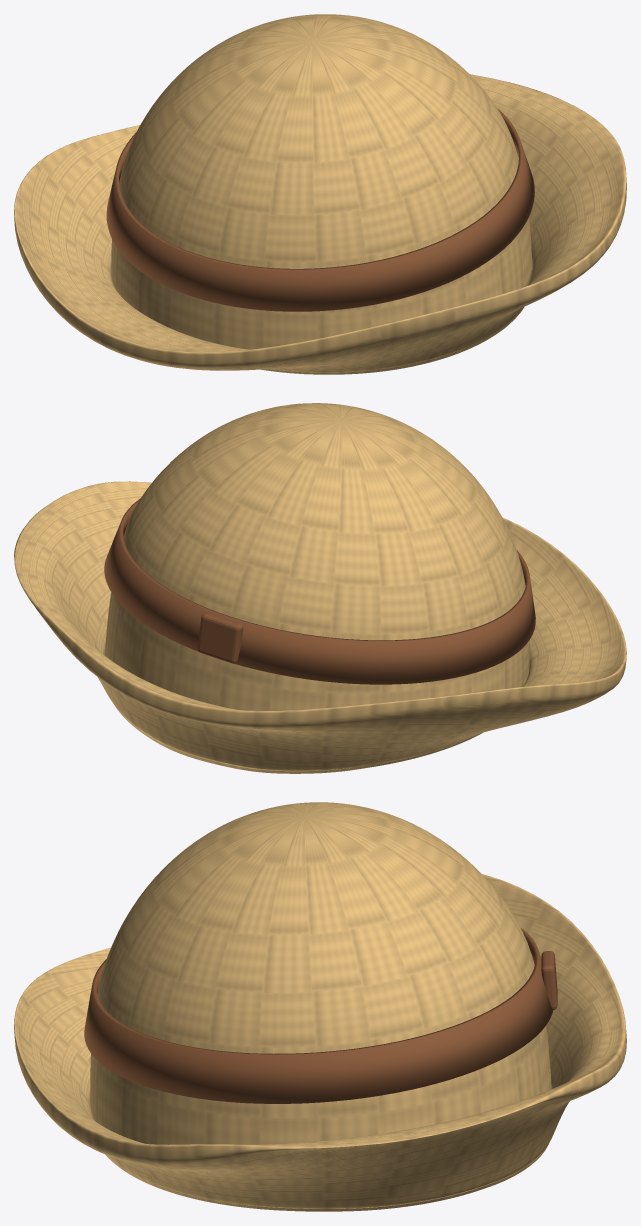
File: sunhat.glb
The picture shows the model from 3 angles, top to bottom: view 1: azimuth 30°, elevation 25°; view 2: azimuth 150°, elevation 25°; view 3: azimuth 270°, elevation 25°; orthographic projection. The views are drawn at different scales.
Visible parts, largest first — view 1: sunhat_hollow_crown, sunhat_soft_brim, sunhat_brown_band; view 2: sunhat_hollow_crown, sunhat_soft_brim, sunhat_brown_band, sunhat_band_back_join; view 3: sunhat_hollow_crown, sunhat_soft_brim, sunhat_brown_band, sunhat_band_back_join.
Boxes of the visible parts, x1=… form: sunhat_hollow_crown: x1=111, y1=14, x2=532, y2=374; sunhat_soft_brim: x1=14, y1=74, x2=626, y2=372; sunhat_brown_band: x1=106, y1=108, x2=534, y2=311; sunhat_hollow_crown: x1=105, y1=403, x2=529, y2=773; sunhat_soft_brim: x1=14, y1=481, x2=626, y2=771; sunhat_brown_band: x1=104, y1=498, x2=535, y2=684; sunhat_band_back_join: x1=197, y1=613, x2=243, y2=663; sunhat_hollow_crown: x1=90, y1=802, x2=551, y2=1211; sunhat_soft_brim: x1=14, y1=874, x2=626, y2=1208; sunhat_brown_band: x1=84, y1=928, x2=553, y2=1103; sunhat_band_back_join: x1=541, y1=951, x2=557, y2=1009.
Size of the model in its own units: 0.6369 by 0.2929 by 0.5422.
2 materials, 1 textured.
